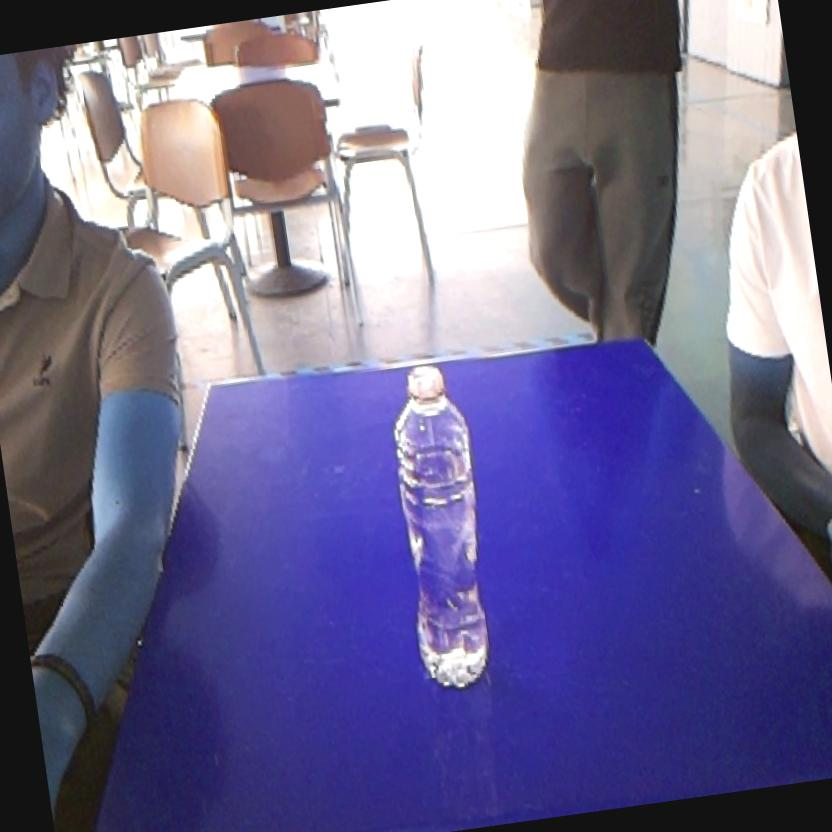no_cap: (372, 351, 510, 699)
